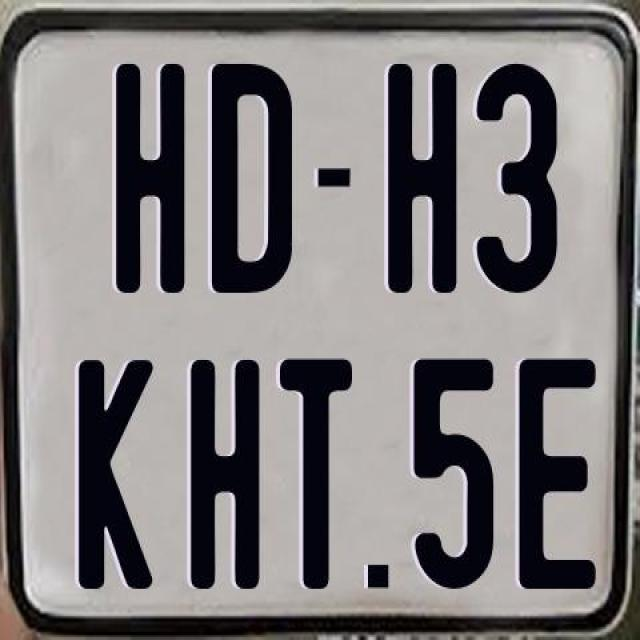3: (474, 62, 558, 296)
5: (412, 358, 495, 592)
D: (210, 64, 294, 301)
E: (514, 355, 598, 592)
H: (114, 63, 190, 300), (384, 62, 457, 296), (186, 355, 258, 587)
K: (78, 357, 160, 592)
T: (277, 353, 352, 584)
